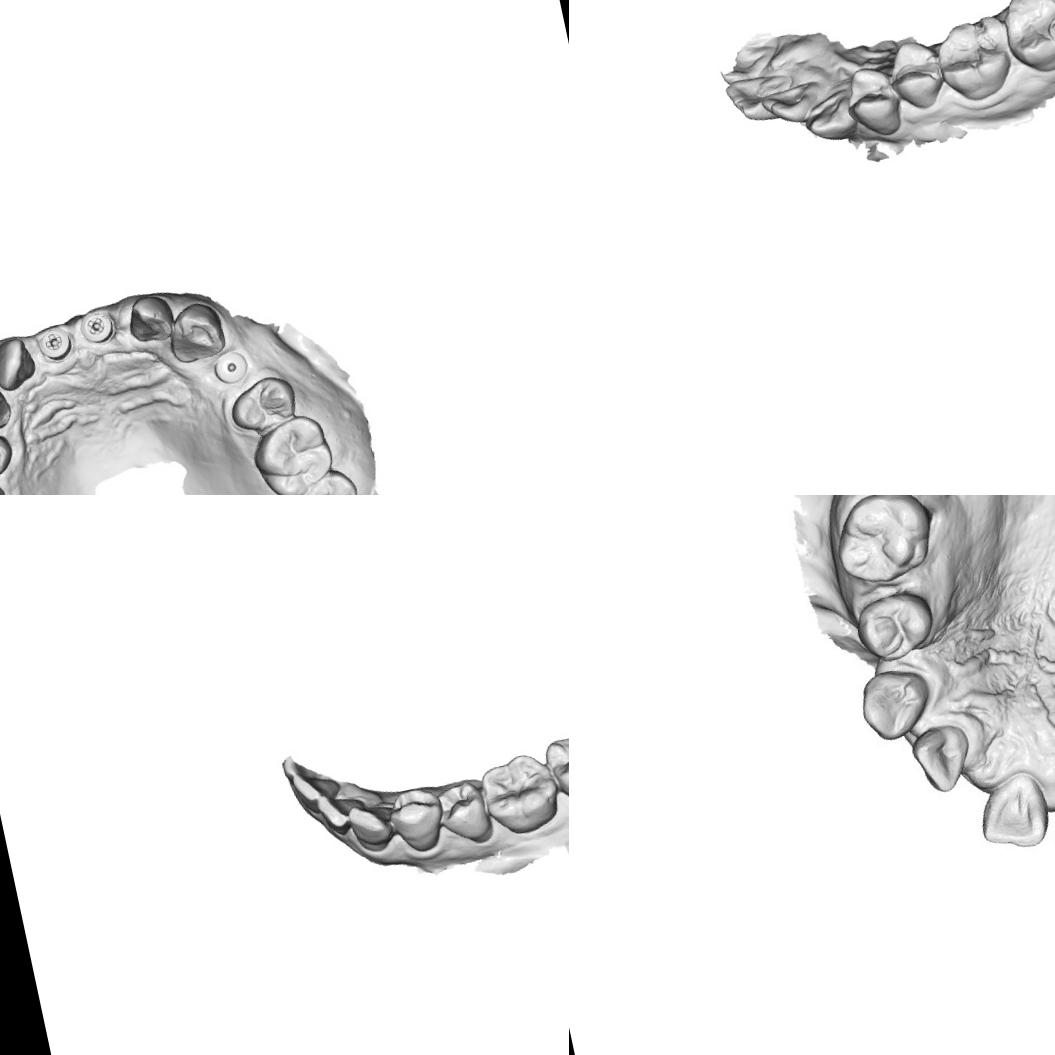canine: (858, 665, 936, 747), (162, 296, 234, 368), (798, 85, 860, 149), (344, 795, 402, 857), (0, 369, 18, 444)
implant: (210, 348, 254, 387)
implant_plus: (29, 314, 81, 372), (72, 299, 122, 354)
incisor: (970, 768, 1054, 858), (908, 718, 977, 798), (121, 285, 186, 348), (284, 766, 346, 826), (758, 77, 825, 131), (722, 70, 782, 130), (315, 782, 373, 844), (715, 38, 783, 86), (0, 330, 41, 397)
molar: (829, 495, 935, 584), (474, 744, 568, 841), (931, 11, 1022, 108), (244, 409, 340, 495), (997, 0, 1055, 79), (279, 462, 376, 495), (541, 722, 569, 815)
premolar: (838, 582, 944, 672), (838, 61, 906, 144), (222, 370, 302, 440), (882, 35, 950, 116), (431, 775, 498, 851), (386, 784, 449, 863), (0, 423, 19, 495)
